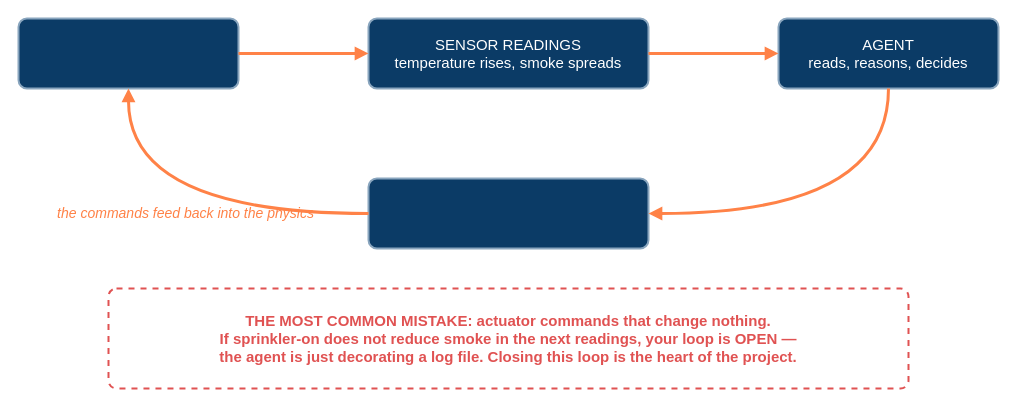
The diagram is 1016 pixels wide and 406 high, and some of its shapes have lost their labels. Each missing label, with the centre of its shape:
ACTUATOR COMMANDS sprinkler on · heat off · vent up: pixel 508 213
SIMULATOR the physics model: pixel 128 53
